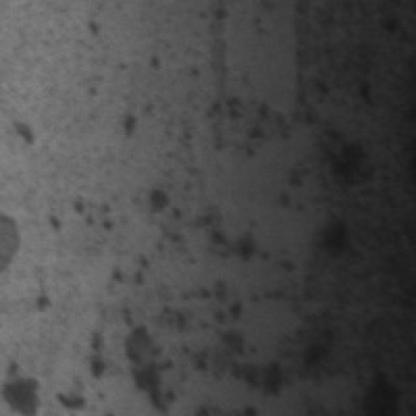pitted_surface: (31, 174, 298, 402), (102, 4, 366, 210)
